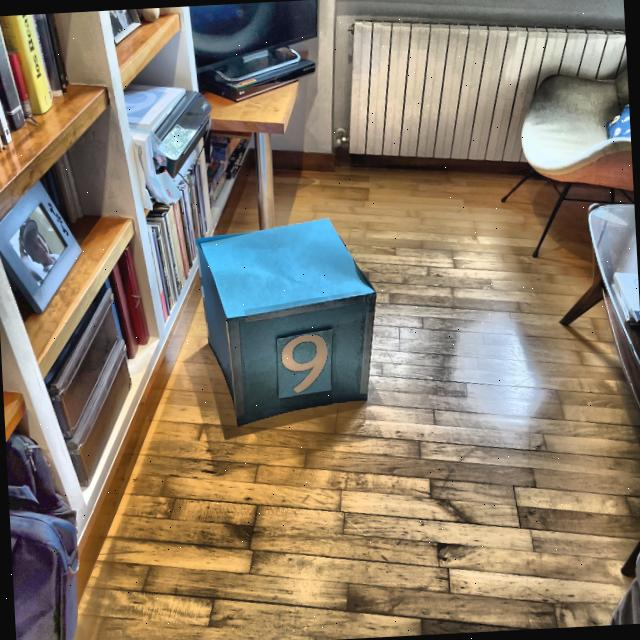blue box: (192, 213, 386, 432)
nine: (278, 330, 331, 397)
